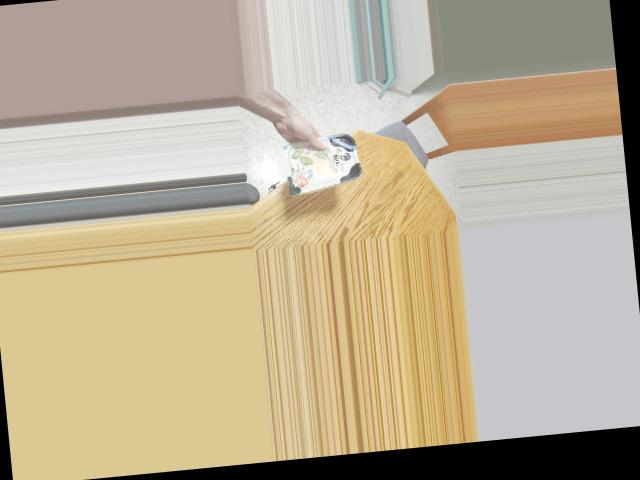cheese: (281, 123, 360, 197)
